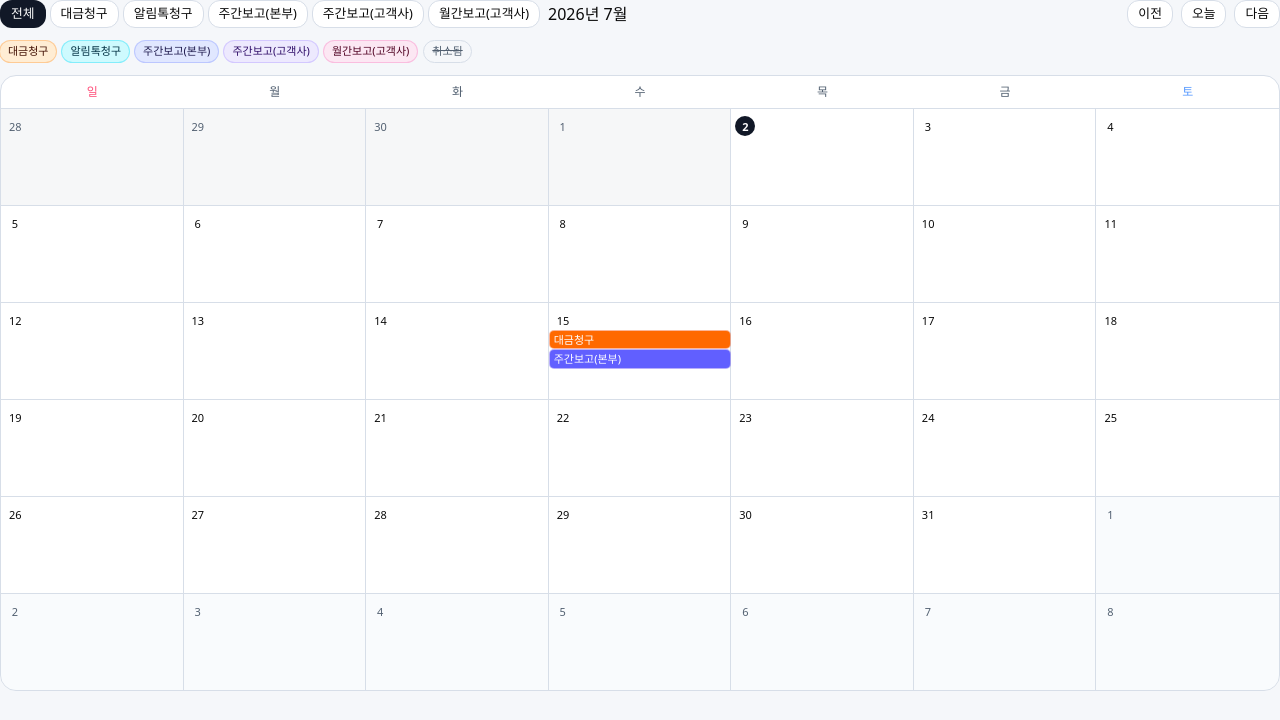
Test case: WorkflowsCalendar — 필터(D6) › kind 미스매치는 숨김(클라 필터)
Click the button "대금청구" at (84, 14), box [50, 0, 119, 28]
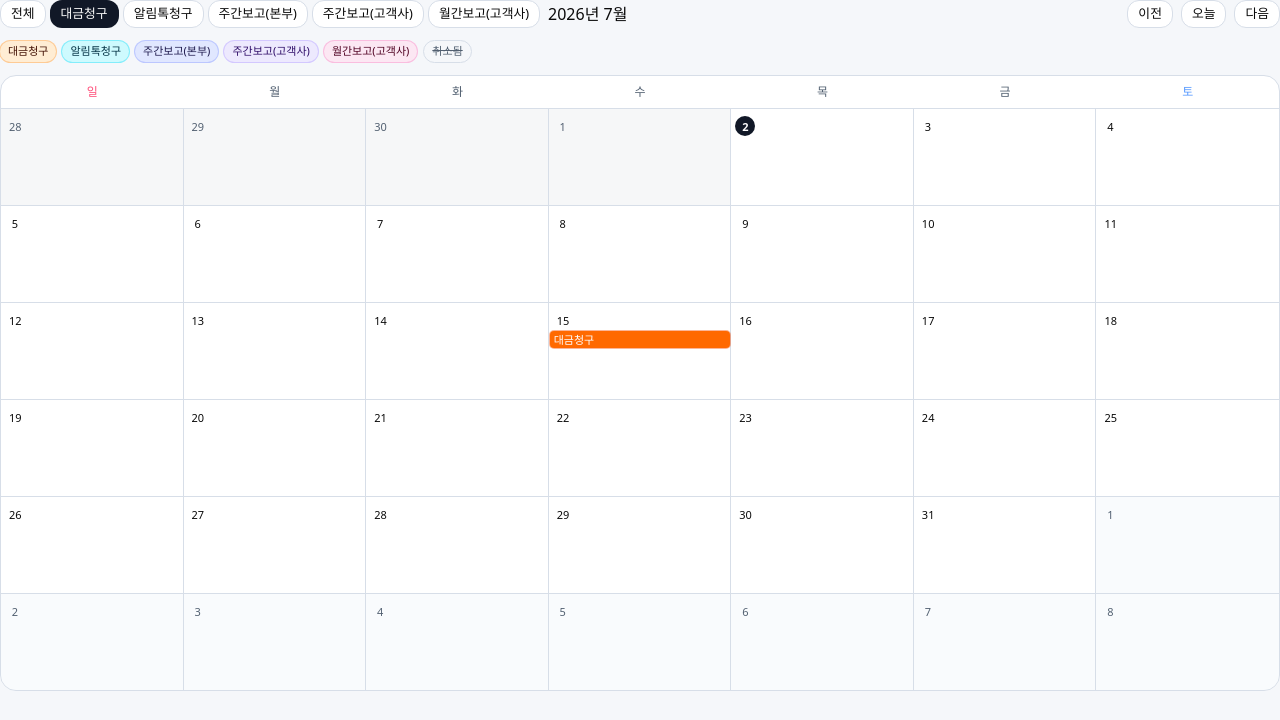
Click the button "15" at (640, 350), box [549, 302, 731, 398]
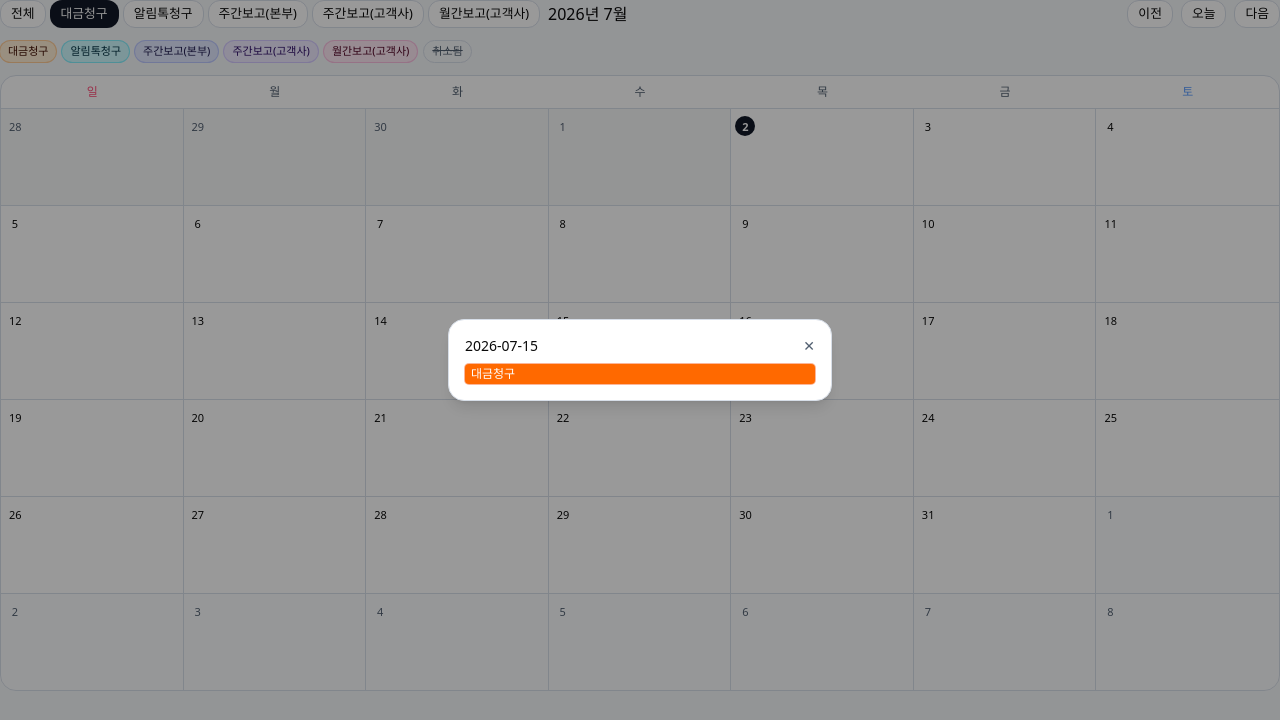
Expected: the button "대금청구" is shown, [465, 364, 815, 384]
